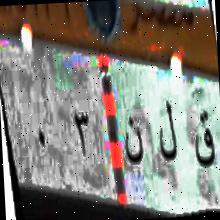0: (32, 114, 50, 164)
3: (70, 100, 94, 162)
laam: (154, 95, 180, 179)
noon: (122, 110, 144, 176)
qaaf: (190, 101, 220, 183)
